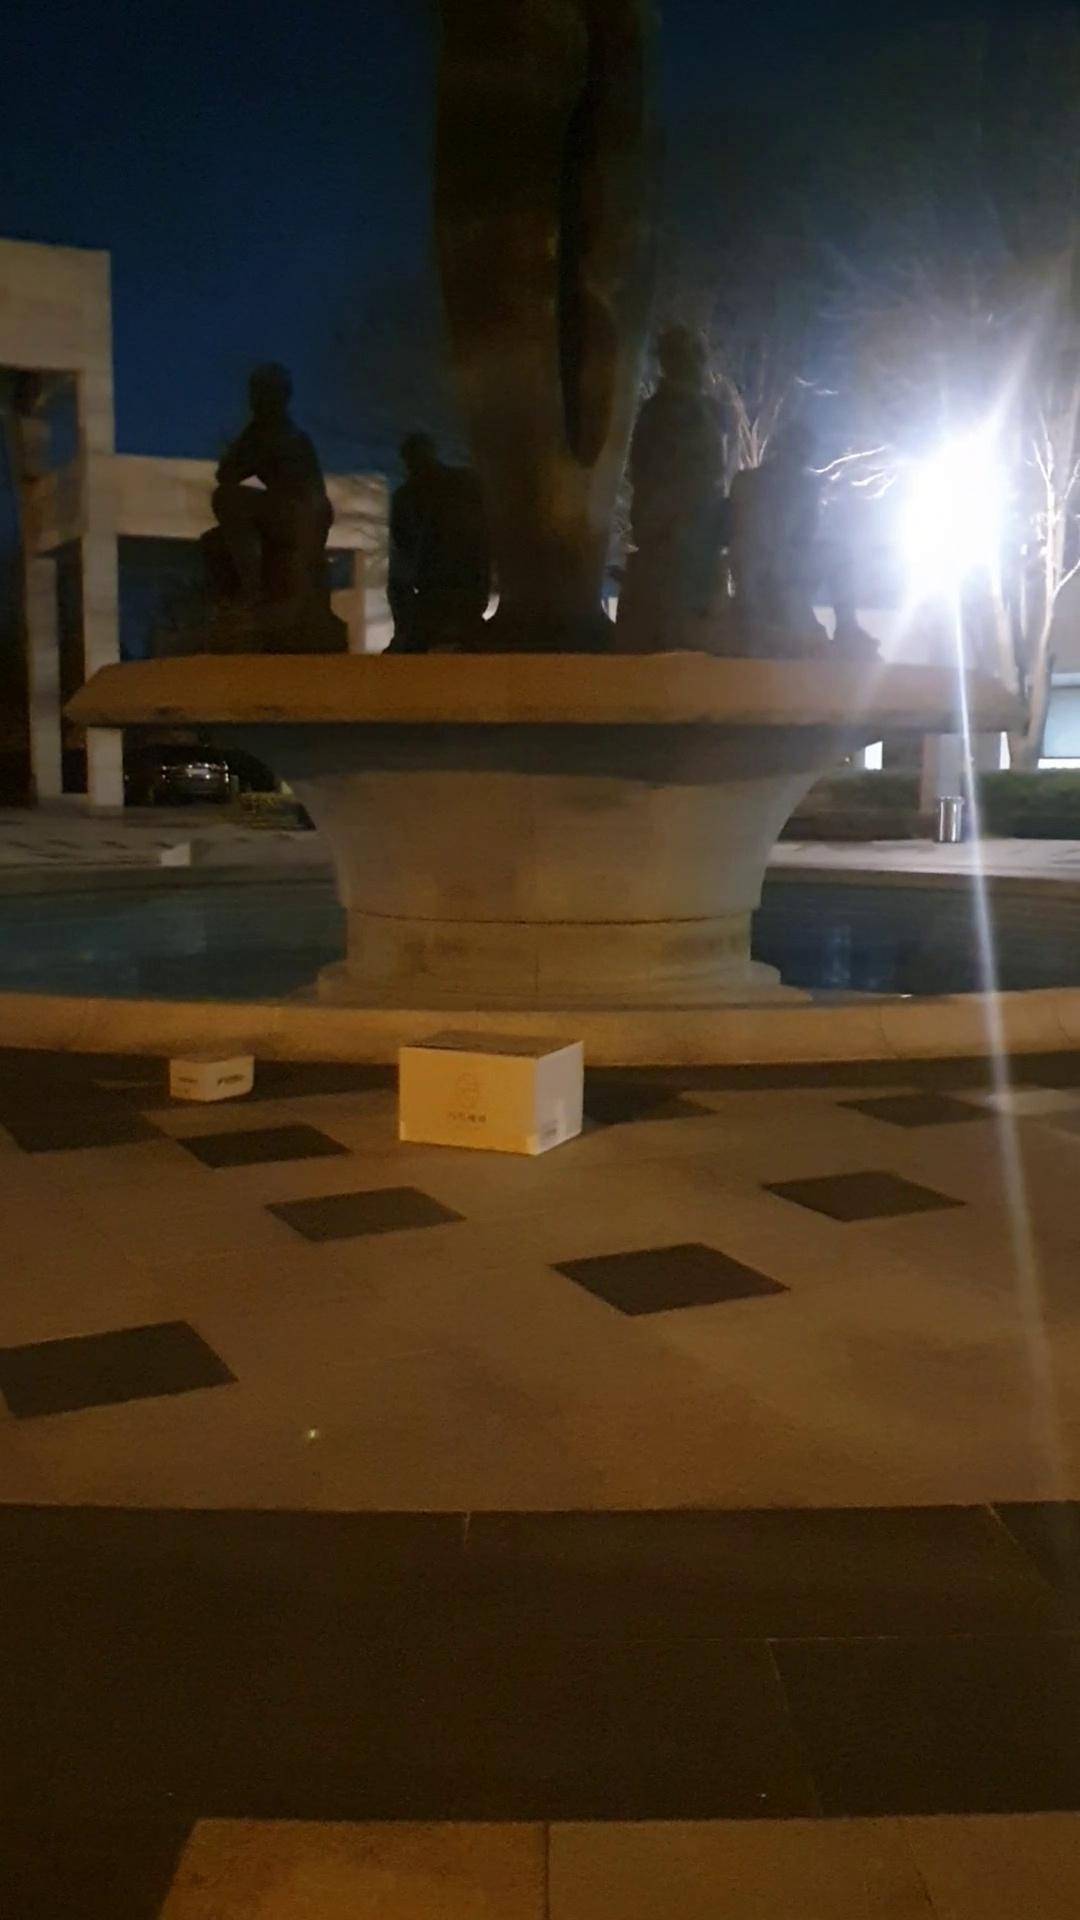Box: (373, 1030, 611, 1147), (158, 1035, 260, 1120)
